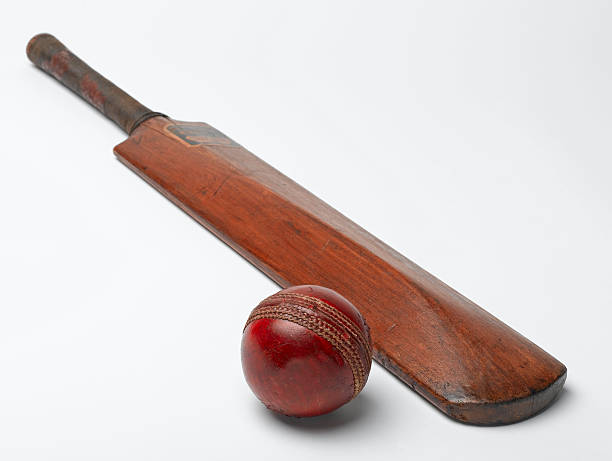bottom left: (428, 387, 477, 436)
bottom right: (538, 347, 585, 394)
top left: (100, 137, 144, 181)
top right: (184, 108, 219, 143)
